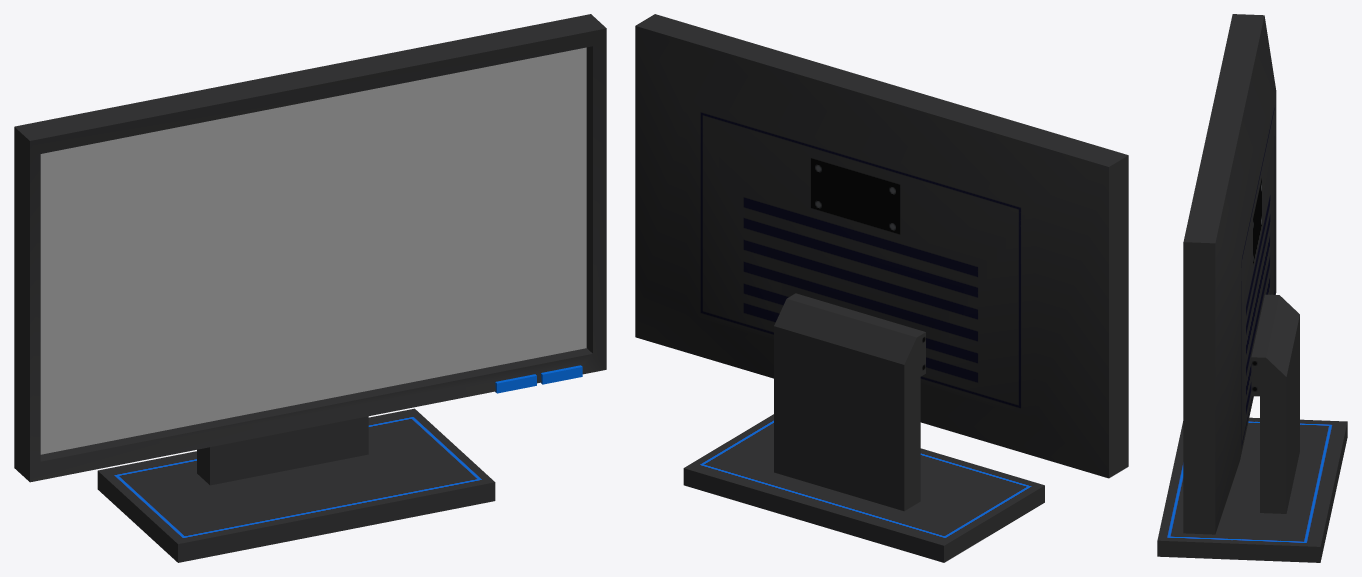
File: monitor.glb
The picture shows the model from 3 angles, left to right: view 1: azimuth 30°, elevation 25°; view 2: azimuth 150°, elevation 25°; view 3: azimuth 270°, elevation 25°; orthographic projection. The views are drawn at different scales.
Visible parts, largest first — view 1: Monitor; view 2: Monitor; view 3: Monitor.
Boxes of the visible parts, bbox=[...] form: Monitor: bbox=[14, 14, 606, 562]; Monitor: bbox=[635, 14, 1128, 562]; Monitor: bbox=[1157, 14, 1347, 562].
Size of the model in its own units: 1.88 by 1.41 by 0.6602.
1 material, 1 textured.
